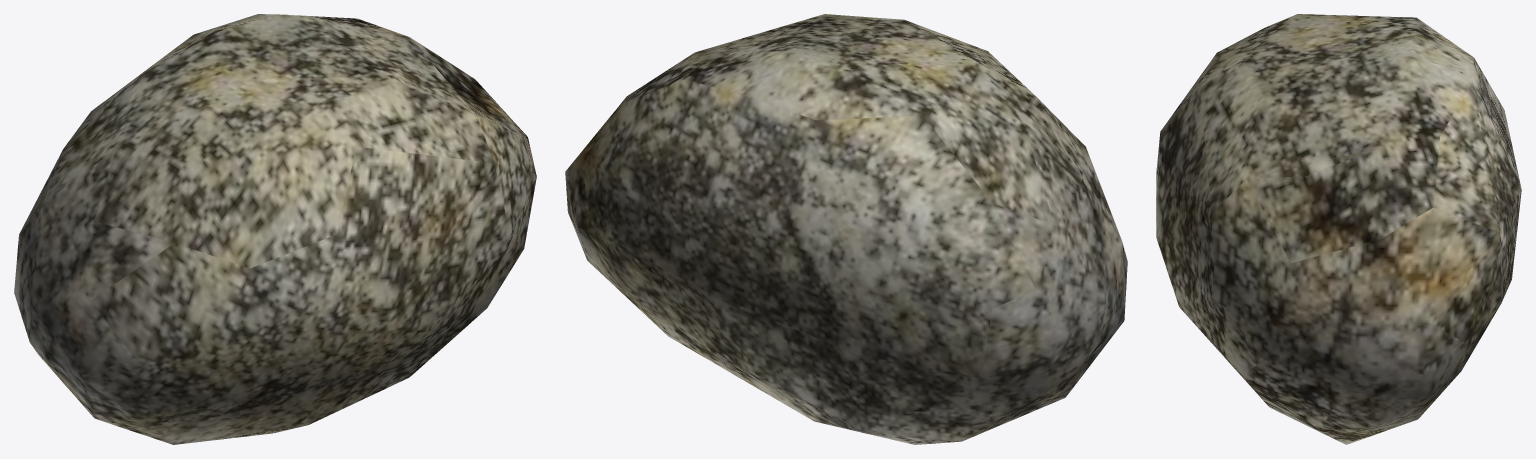
The picture shows the model from 3 angles, left to right: view 1: azimuth 30°, elevation 25°; view 2: azimuth 150°, elevation 25°; view 3: azimuth 270°, elevation 25°; orthographic projection.
Visible parts, largest first — view 1: rock002_lod4; view 2: rock002_lod4; view 3: rock002_lod4.
Part boxes in pixels (x1,y1,x2,y2): rock002_lod4: [14, 14, 536, 444]; rock002_lod4: [565, 14, 1127, 444]; rock002_lod4: [1156, 14, 1521, 444].
Bounding box in the file's own units: 1 × 0.7287 × 0.6345.
1 material, 1 textured.
